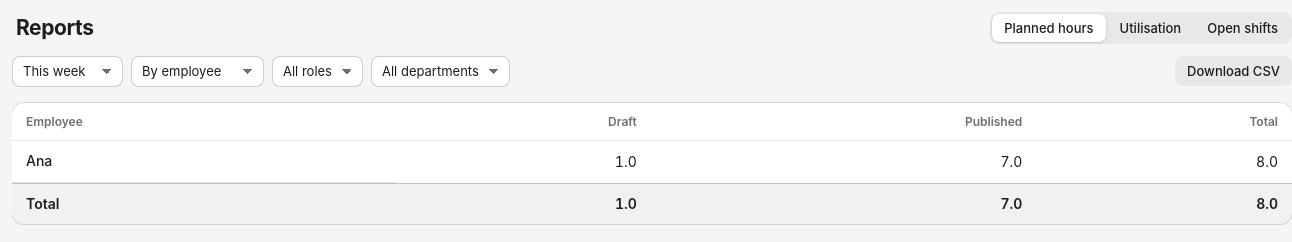
ReportsPage › switches from Planned hours to Utilisation without drawing the old data as the new shape
Expected: the column heading "Ana" is shown, [12,141,395,182]
Step 1. Click the radio button labelled "Utilisation" → (1150,28), box [1120,20,1181,36]
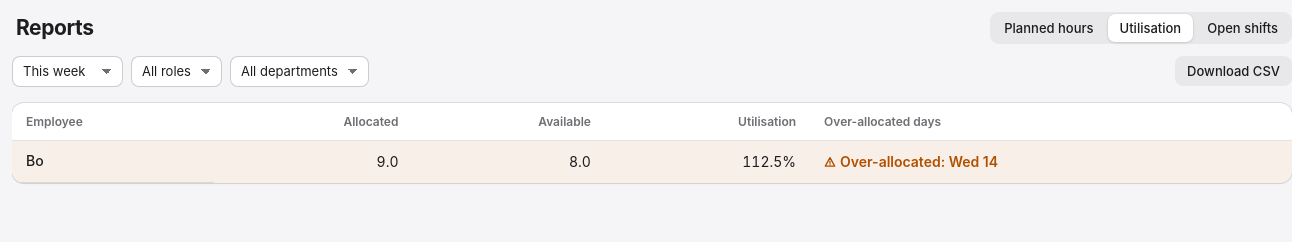
Expected: the column heading "Ana" is gone
Expected: the column heading "Bo" is shown, [12,141,214,182]
Expected: the text "Over-allocated: Wed 14" is shown, [824,153,998,170]
